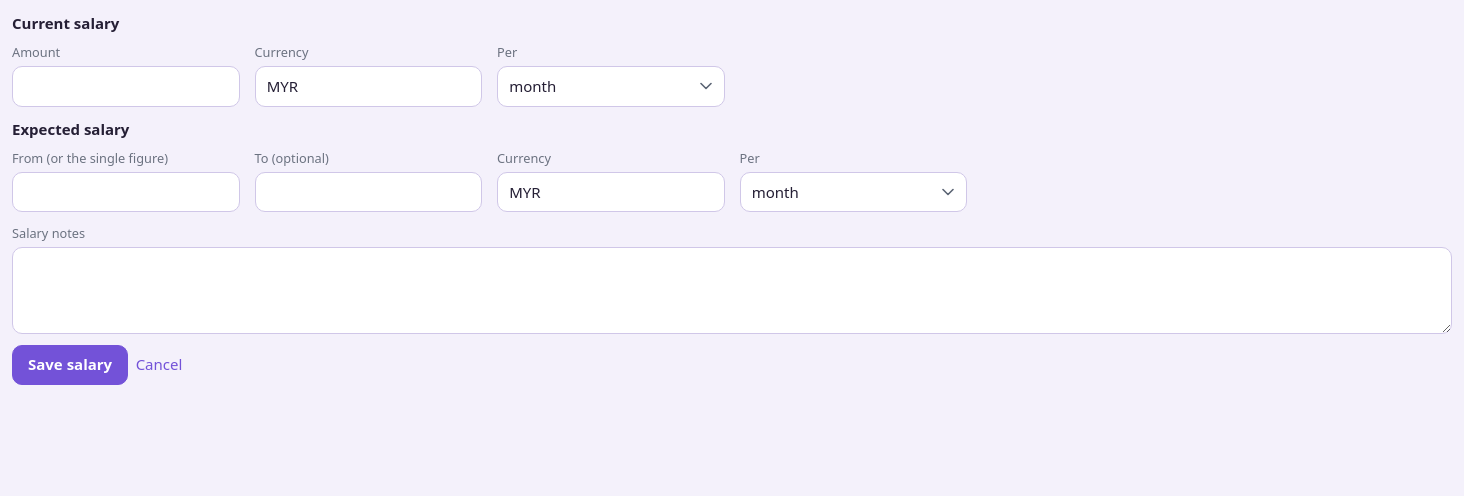
Scenario: salary form › shows the API's message about a currency next to that currency
Step 1. Type "10000" into the field labelled "From (or the single figure)" → (126, 192), box x1=12 y1=172 x2=240 y2=212
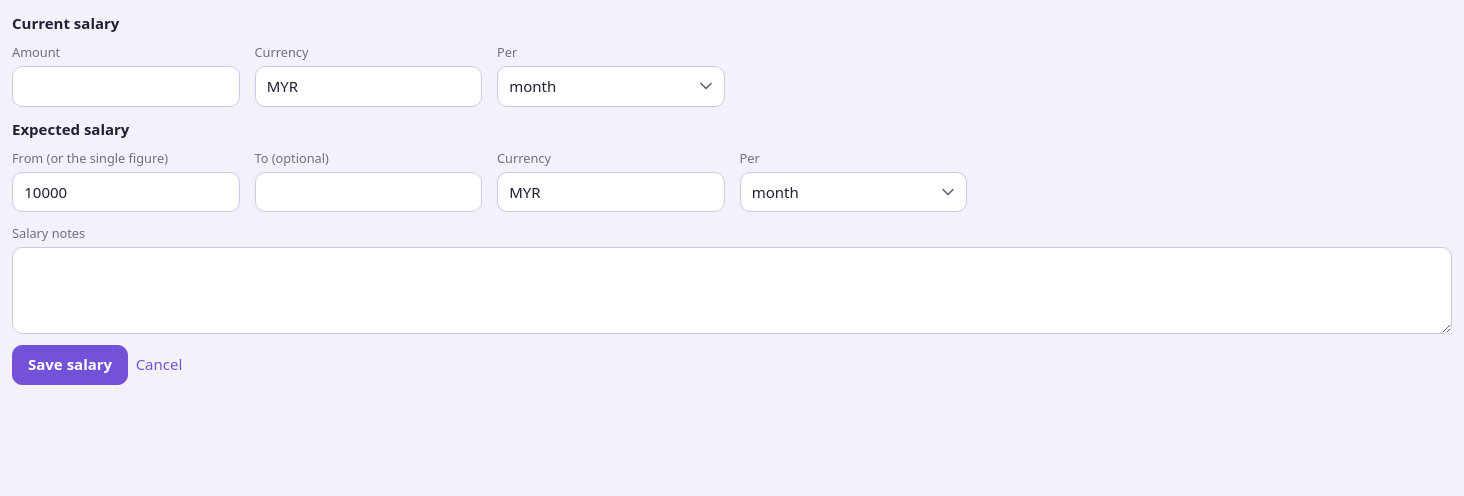
Step 2. Replace the text in the field labelled "Currency" below "To (optional)" with "XYZ" → (611, 192), box x1=497 y1=172 x2=724 y2=212
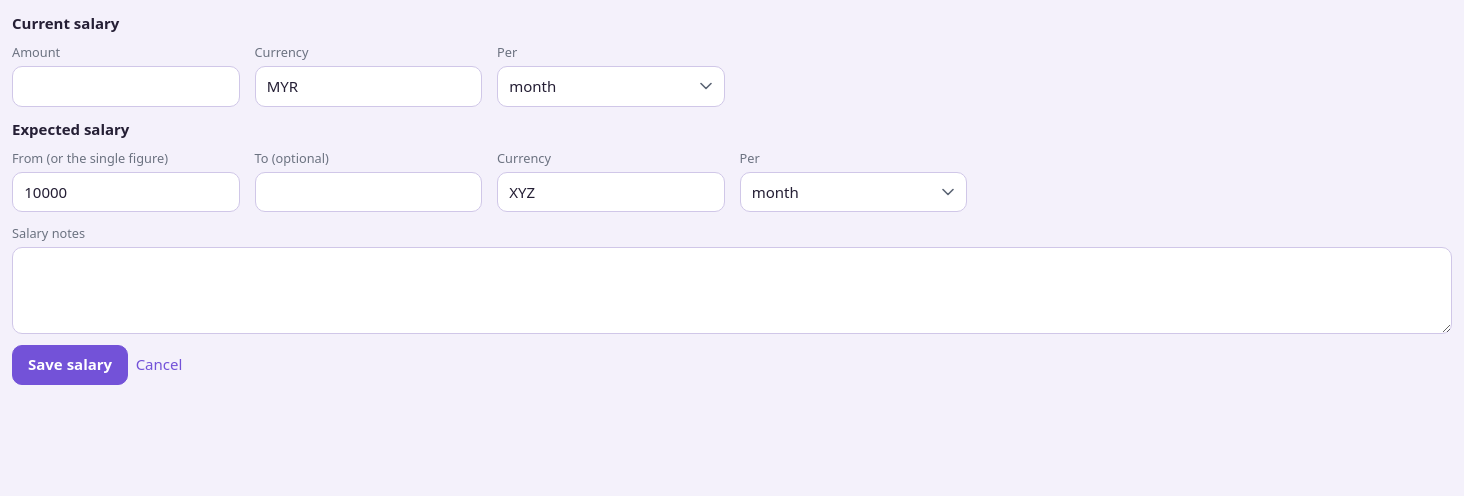
Step 3. Click the button "Save salary" → (70, 365), box x1=12 y1=345 x2=128 y2=385
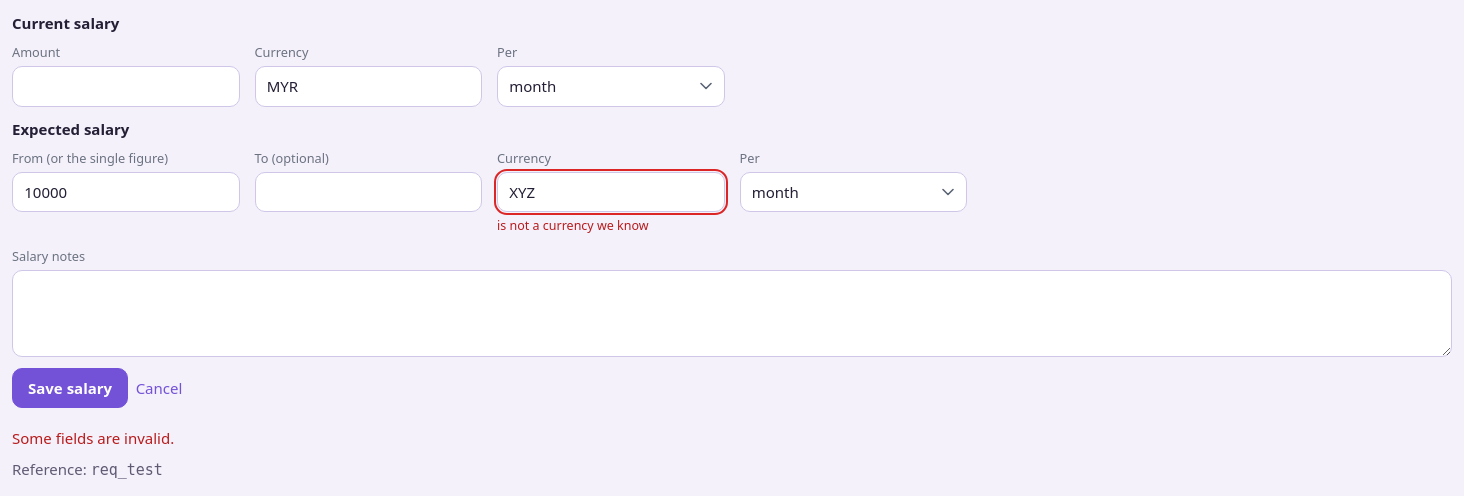
Expected: the text with class "error" reads "is not a currency we know", x1=497 y1=217 x2=649 y2=234
